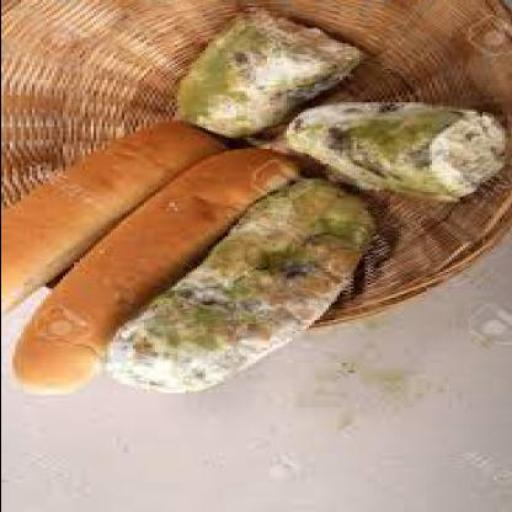biodegradable: (8, 153, 302, 396), (101, 183, 372, 394), (1, 124, 224, 314), (238, 101, 507, 204), (171, 8, 358, 140)
